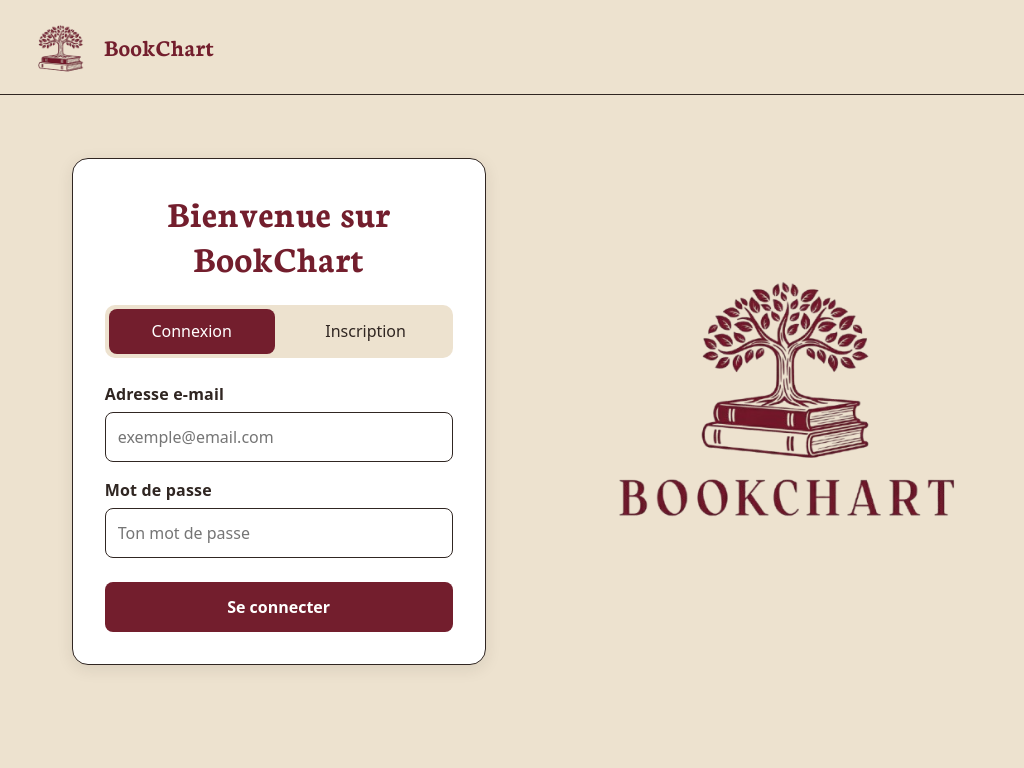
Test: navigation et authentification › connecte l'utilisateur et affiche le tableau de bord
Type "user@example.test" into the field labelled "Adresse e-mail" at (279, 437), box 105,412 -> 453,462
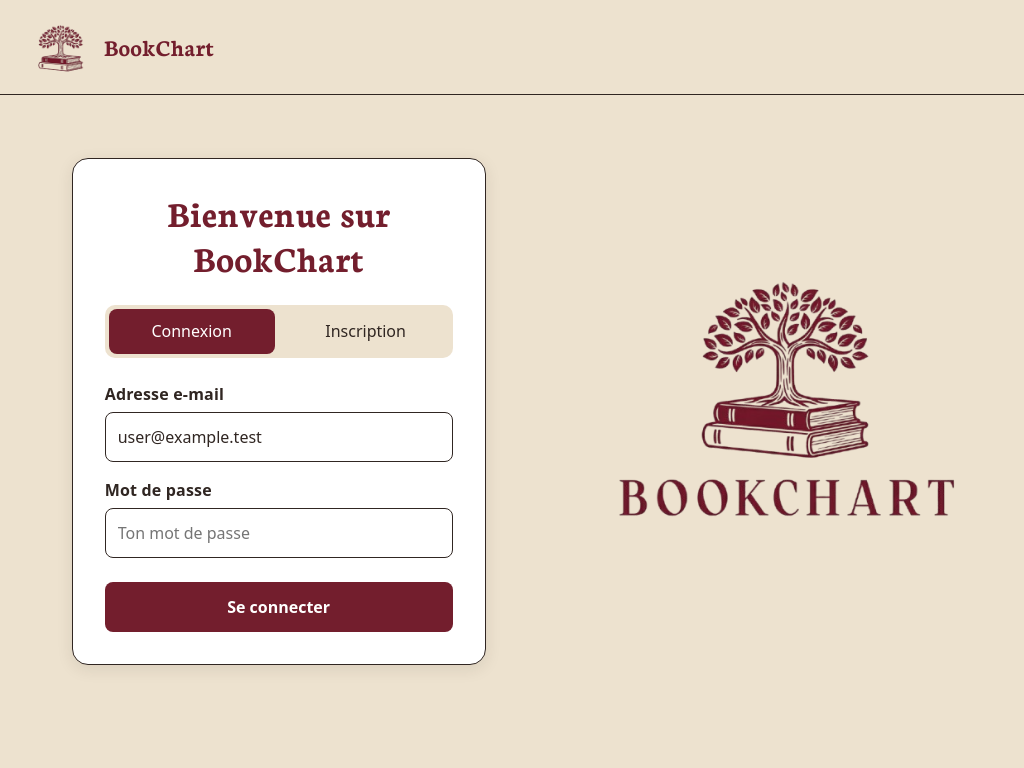
Type "password" into the password field labelled "Mot de passe" at (279, 533), box 105,508 -> 453,558
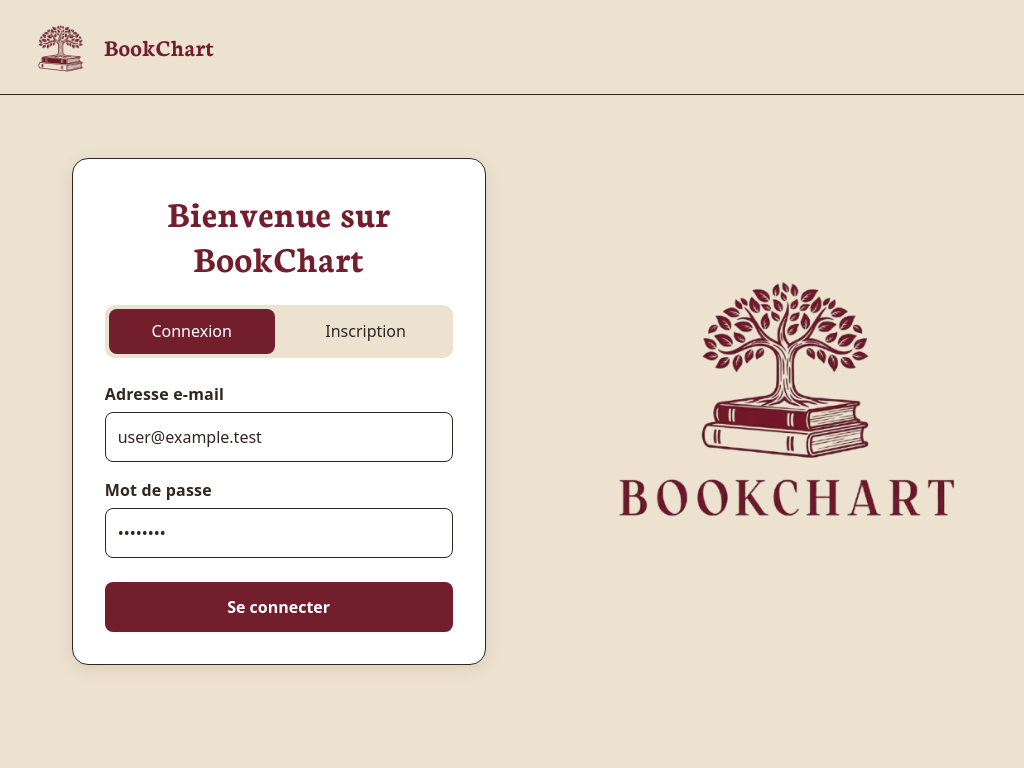
Click the button "Se connecter" at (279, 607), box 105,582 -> 453,632
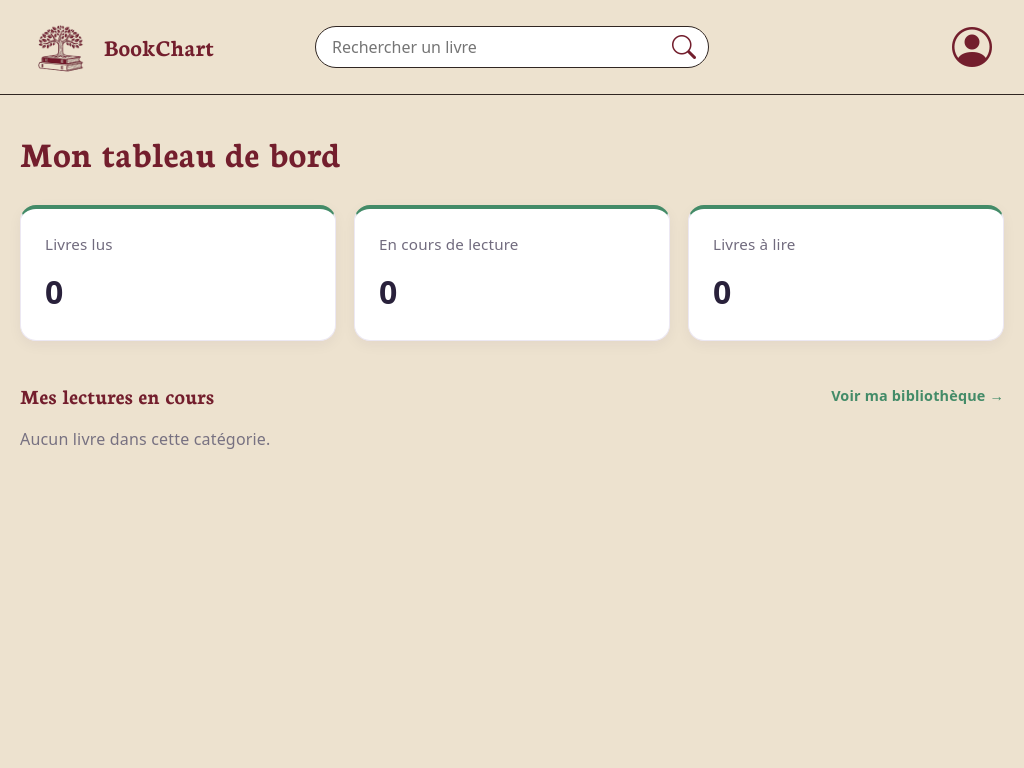
Result: the heading "Mon tableau de bord" is shown at 20,129 -> 341,176
